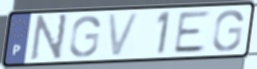1: (155, 10, 171, 57)
E: (171, 9, 213, 55)
G: (211, 8, 246, 53), (68, 14, 103, 59)
N: (28, 12, 71, 62)
V: (106, 10, 142, 59)
